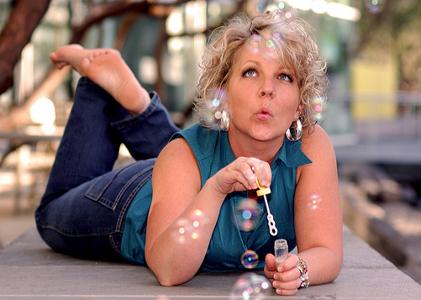person: (28, 18, 345, 294)
